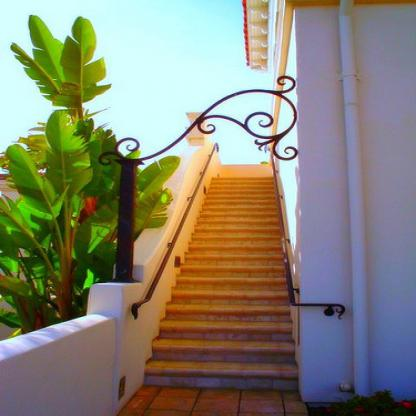stairs: (168, 319, 281, 397)
